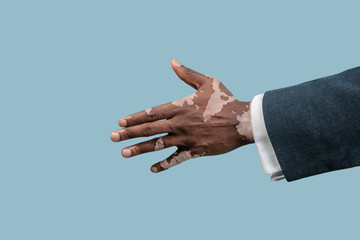vitiligo: (151, 78, 252, 145)
